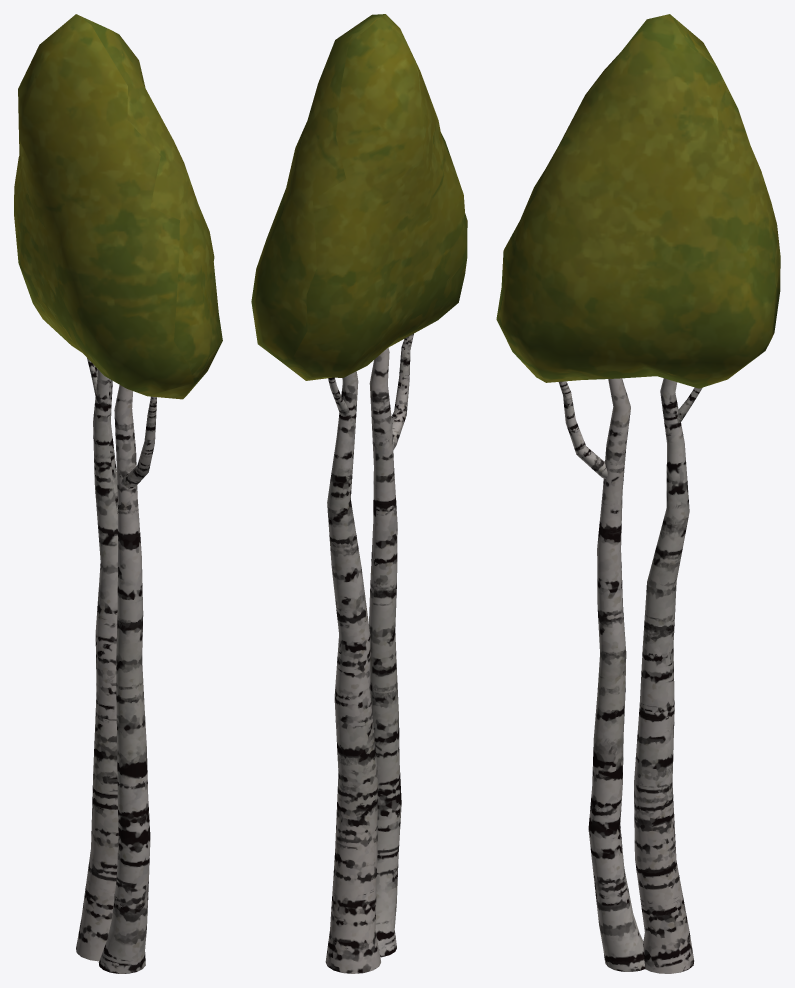
The model's file is Sm_BirchTree5.fbx.
The picture shows the model from 3 angles, left to right: view 1: azimuth 30°, elevation 25°; view 2: azimuth 150°, elevation 25°; view 3: azimuth 270°, elevation 25°; orthographic projection.
Parts seen in each view (by area): view 1: Sm_BirchTree5; view 2: Sm_BirchTree5; view 3: Sm_BirchTree5.
Boxes of the visible parts, x1,y1,x2,y2 form: Sm_BirchTree5: (14,14,222,973); Sm_BirchTree5: (251,14,467,973); Sm_BirchTree5: (496,14,780,973).
Size of the model in its own units: 122 by 749 by 206.
